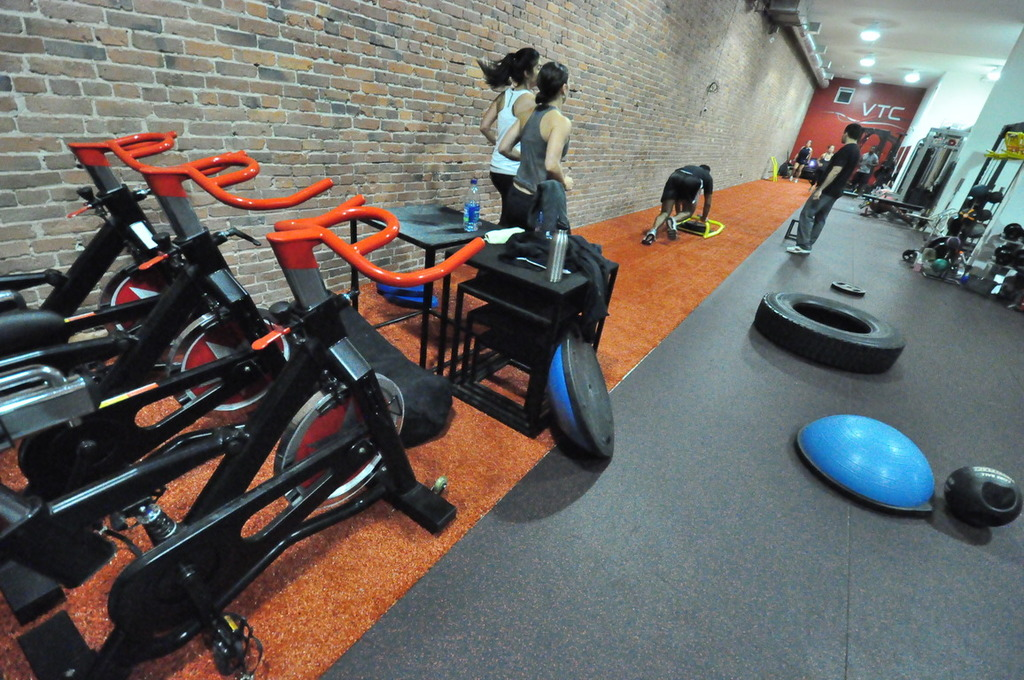Person: (475, 46, 879, 254)
